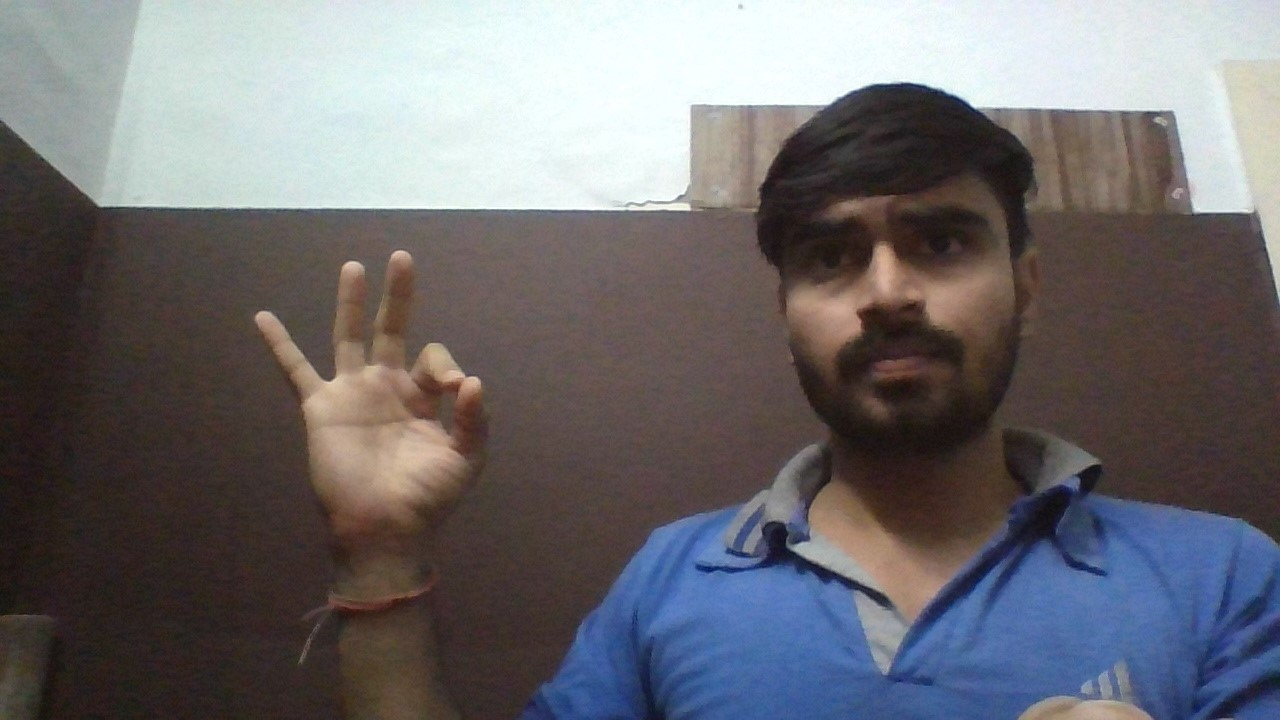F: (235, 242, 494, 544)
